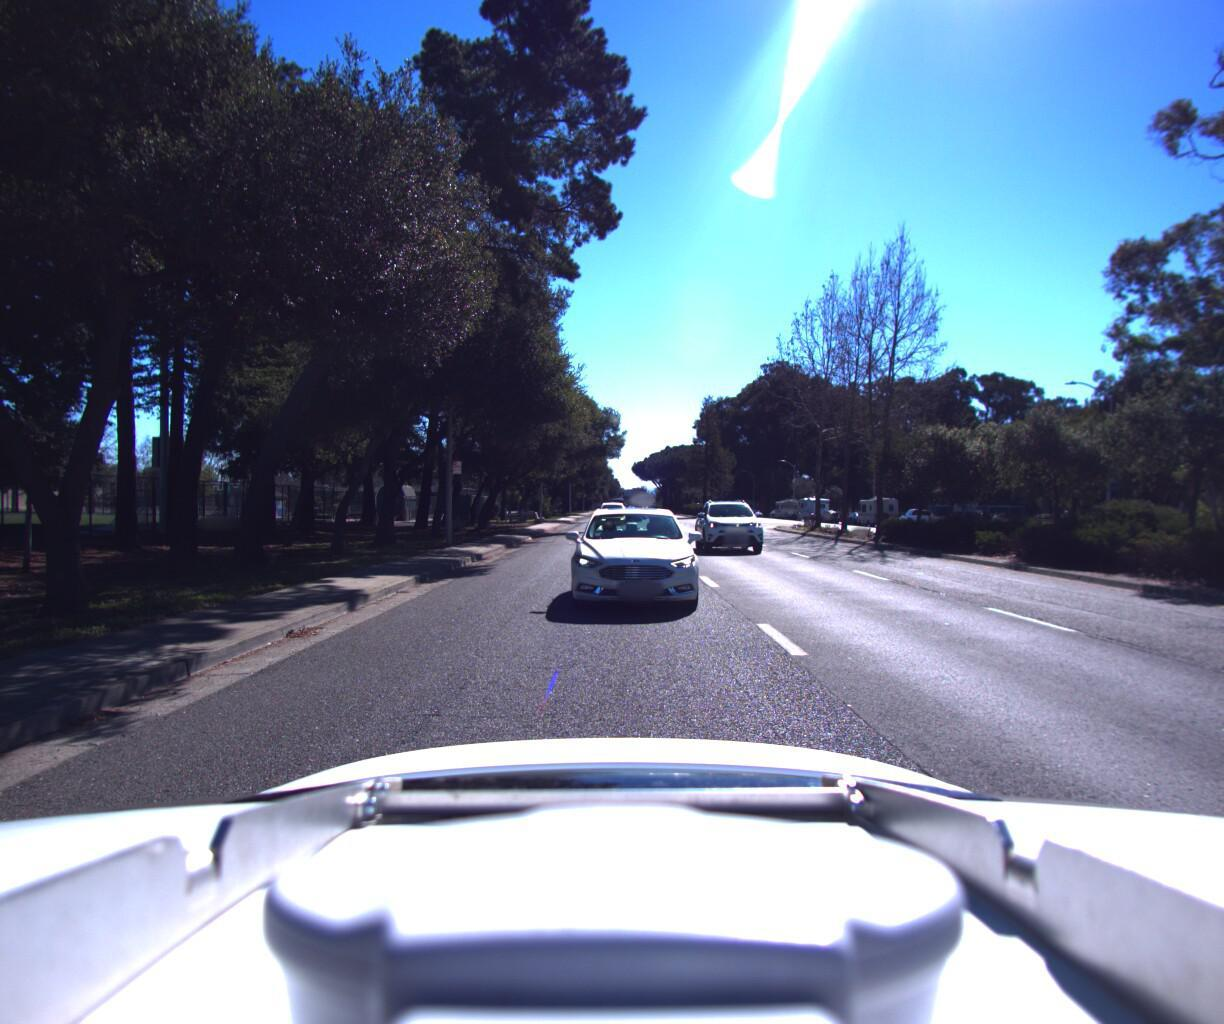car: (559, 502, 715, 633), (693, 497, 776, 558)
other_vehicle: (853, 491, 902, 525)
